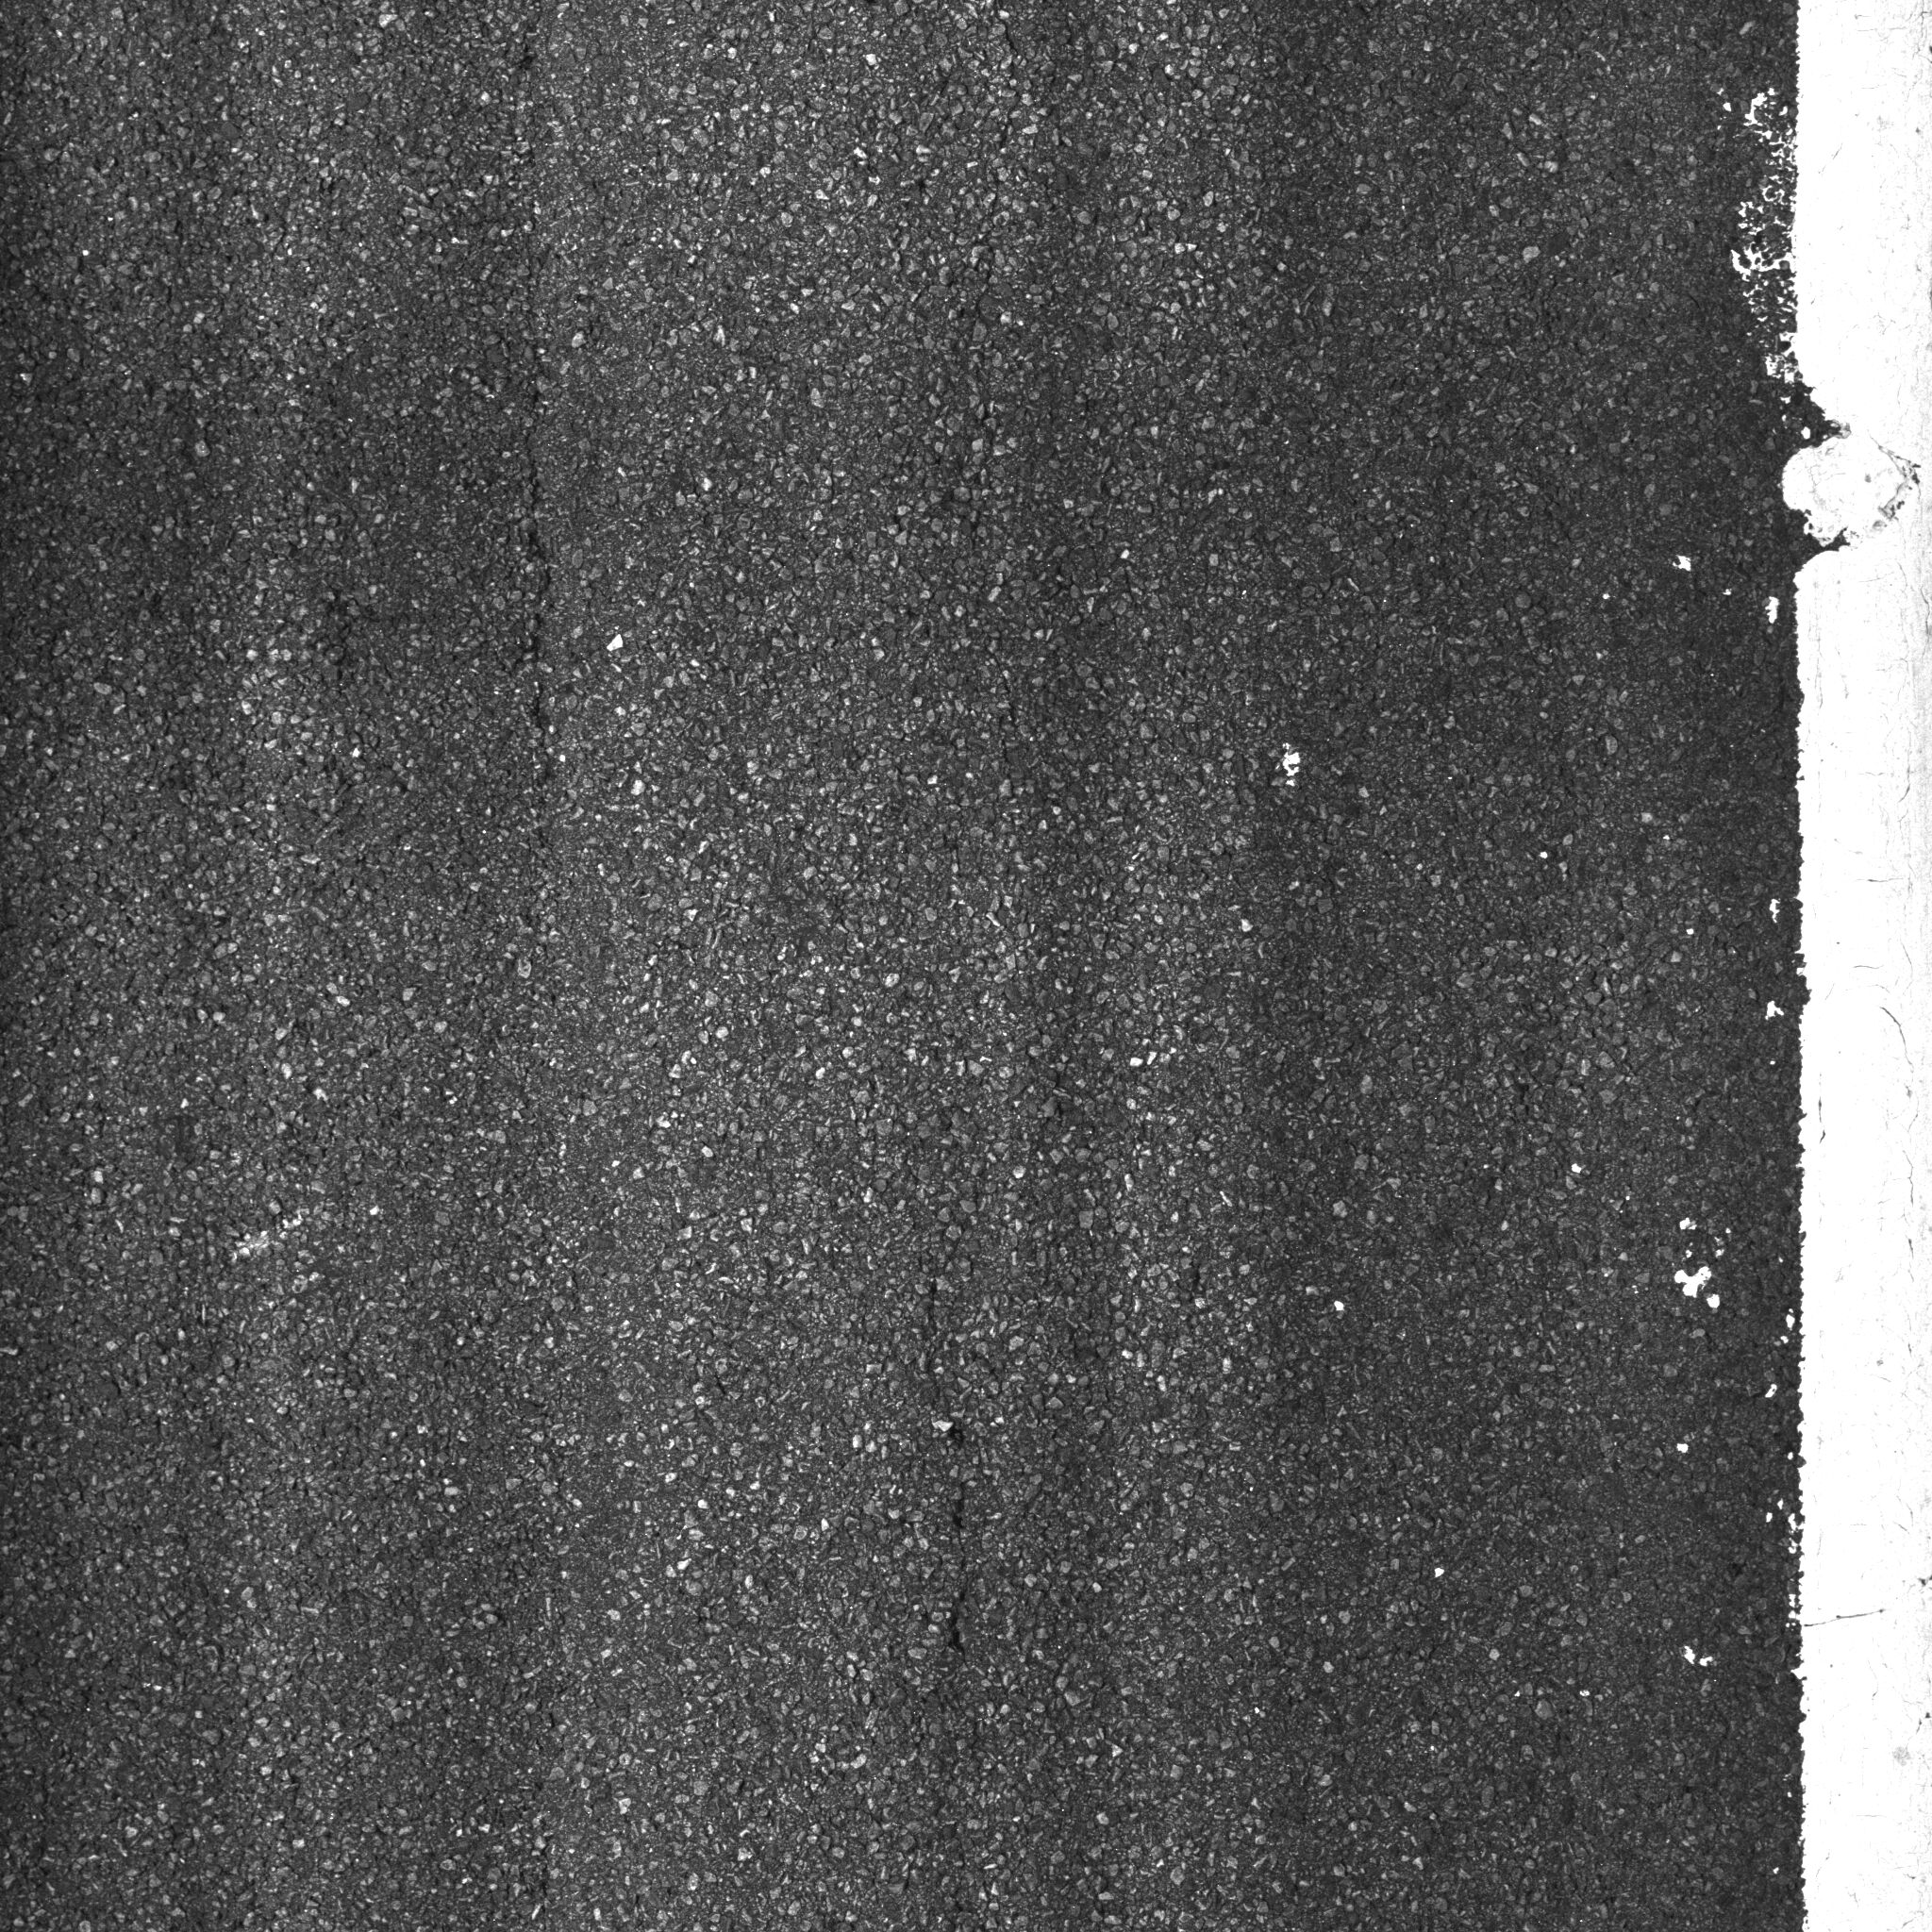longitudinal: (927, 5, 1049, 1806), (476, 150, 632, 1063)
